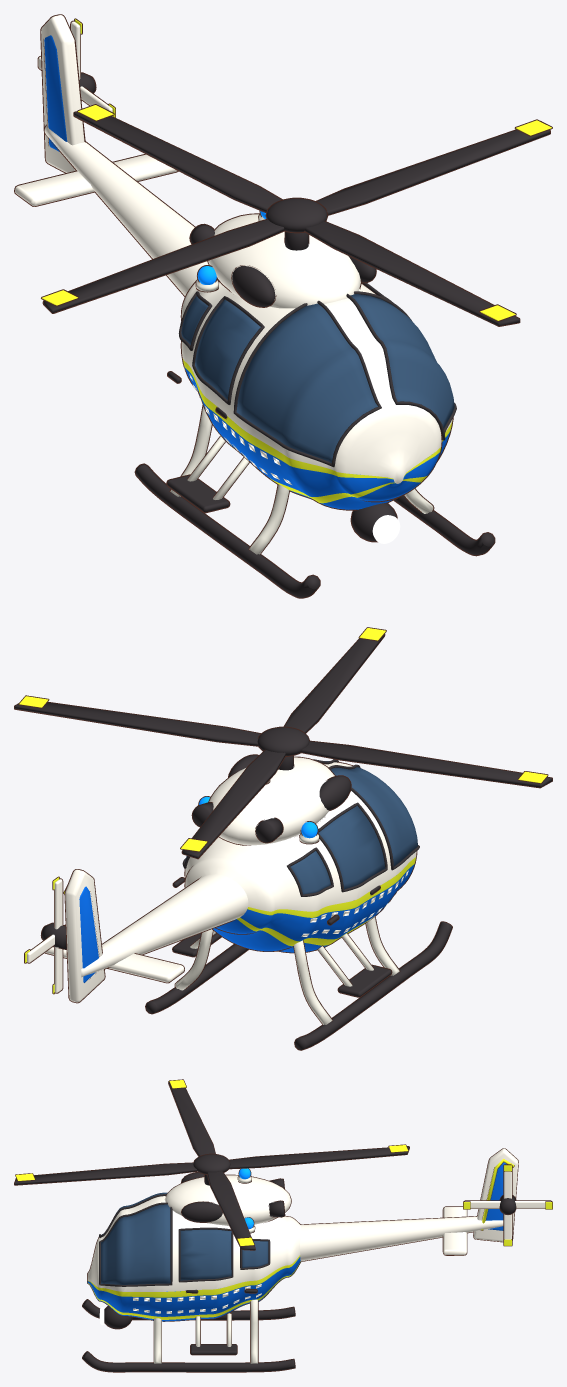
The model's file is hubschrauber.glb.
3 renders of one model, top to bottom at view 1: azimuth 30°, elevation 25°; view 2: azimuth 150°, elevation 25°; view 3: azimuth 270°, elevation 25°, orthographic. The views are drawn at different scales.
Visible parts, largest first — view 1: Fuselage_Sculpted_Mesh, Cockpit_Window_1, Sphere, Tail_Boom_Mesh, Cockpit_Window_0, Main_Blade_2_Mesh, Main_Blade_0_Mesh, Main_Blade_3_Mesh, Main_Blade_1_Mesh, Cabin_Door_Window_1, Landing_Skid_-1_Curve, Tail_Fin_Mesh (+14 smaller); view 2: Fuselage_Sculpted_Mesh, Tail_Boom_Mesh, Sphere, Main_Blade_2_Mesh, Main_Blade_0_Mesh, Cabin_Door_Window_1, Cockpit_Window_1, Tail_Fin_Mesh, Main_Blade_1_Mesh, Main_Blade_3_Mesh, Landing_Skid_-1_Curve, Cube.004 (+14 smaller); view 3: Fuselage_Sculpted_Mesh, Tail_Boom_Mesh, Cockpit_Window_0, Sphere, Cabin_Door_Window_0, Landing_Skid_1_Curve, Main_Blade_3_Mesh, Main_Blade_1_Mesh, Main_Blade_0_Mesh, Main_Blade_2_Mesh, Tail_Fin_Mesh, Cube.004 (+16 smaller).
Boxes of the visible parts, left/top/right/bottom form: Fuselage_Sculpted_Mesh: left=181, top=282, right=452, bottom=509; Cockpit_Window_1: left=236, top=303, right=377, bottom=463; Sphere: left=208, top=214, right=360, bottom=308; Tail_Boom_Mesh: left=44, top=125, right=208, bottom=295; Cockpit_Window_0: left=350, top=294, right=454, bottom=428; Main_Blade_2_Mesh: left=43, top=219, right=284, bottom=313; Main_Blade_0_Mesh: left=317, top=130, right=549, bottom=214; Main_Blade_3_Mesh: left=304, top=221, right=519, bottom=325; Main_Blade_1_Mesh: left=74, top=112, right=281, bottom=211; Cabin_Door_Window_1: left=195, top=299, right=260, bottom=399; Landing_Skid_-1_Curve: left=135, top=464, right=319, bottom=597; Tail_Fin_Mesh: left=41, top=15, right=84, bottom=172; Fuselage_Sculpted_Mesh: left=185, top=762, right=416, bottom=952; Tail_Boom_Mesh: left=81, top=874, right=248, bottom=977; Sphere: left=209, top=757, right=334, bottom=845; Main_Blade_2_Mesh: left=301, top=741, right=552, bottom=787; Main_Blade_0_Mesh: left=14, top=702, right=260, bottom=745; Cabin_Door_Window_1: left=318, top=805, right=385, bottom=889; Cockpit_Window_1: left=330, top=767, right=417, bottom=866; Tail_Fin_Mesh: left=65, top=869, right=104, bottom=1002; Main_Blade_1_Mesh: left=182, top=750, right=285, bottom=858; Main_Blade_3_Mesh: left=284, top=635, right=384, bottom=732; Landing_Skid_-1_Curve: left=295, top=922, right=451, bottom=1049; Cube.004: left=45, top=947, right=184, bottom=982; Fuselage_Sculpted_Mesh: left=87, top=1196, right=300, bottom=1321; Tail_Boom_Mesh: left=300, top=1216, right=503, bottom=1261; Cockpit_Window_0: left=101, top=1204, right=170, bottom=1284; Sphere: left=165, top=1175, right=291, bottom=1225; Cabin_Door_Window_0: left=180, top=1229, right=231, bottom=1280; Landing_Skid_1_Curve: left=82, top=1351, right=295, bottom=1371; Main_Blade_3_Mesh: left=14, top=1163, right=197, bottom=1184; Main_Blade_1_Mesh: left=229, top=1146, right=409, bottom=1168; Main_Blade_0_Mesh: left=207, top=1171, right=255, bottom=1250; Main_Blade_2_Mesh: left=168, top=1082, right=215, bottom=1156; Tail_Fin_Mesh: left=473, top=1148, right=518, bottom=1241; Cube.004: left=443, top=1207, right=466, bottom=1255.
Size of the model in its own units: 6.37 by 3.49 by 8.67.
